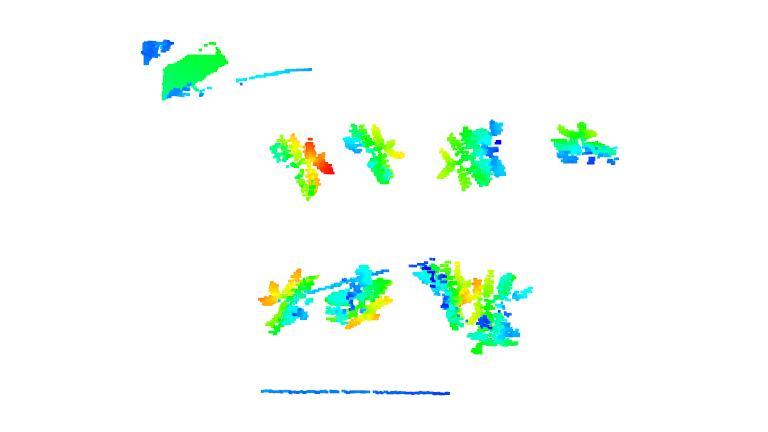chickpea: (465, 271, 537, 357), (437, 120, 510, 190), (269, 134, 336, 202), (323, 265, 393, 330), (414, 258, 471, 330), (341, 122, 404, 186), (259, 268, 318, 334), (551, 122, 620, 169)
